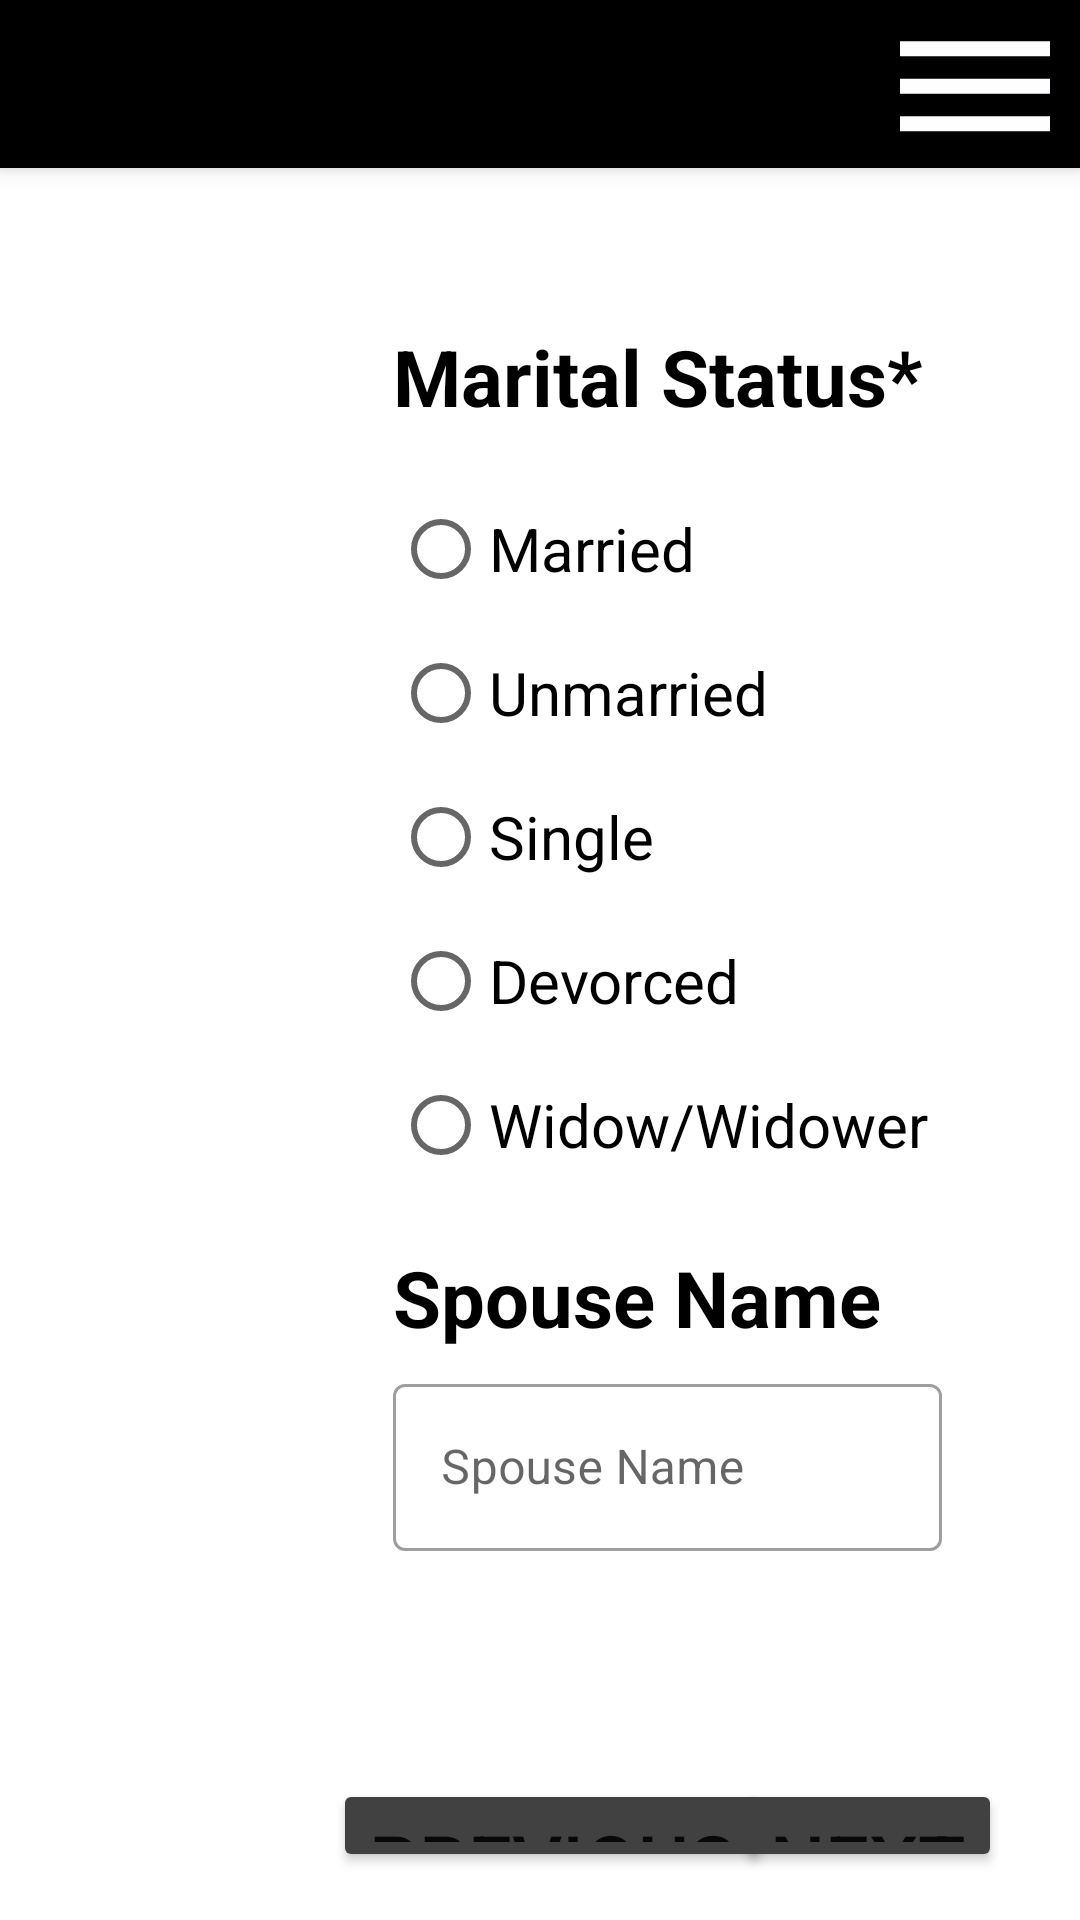

Screen size 1080x1920. Icon name, then its box in pixels as (x1, y1, x2, y2):
dehaze: (900, 41, 1050, 132)
